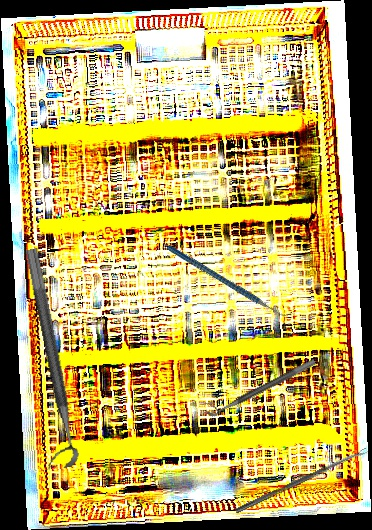Chopper: (166, 211, 296, 351)
Fixation Ring: (6, 247, 81, 472), (202, 349, 317, 420)
Surgical Spoon: (234, 447, 369, 515)
